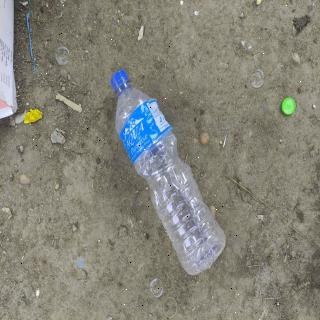Plastic-bottle: (110, 68, 228, 278)
